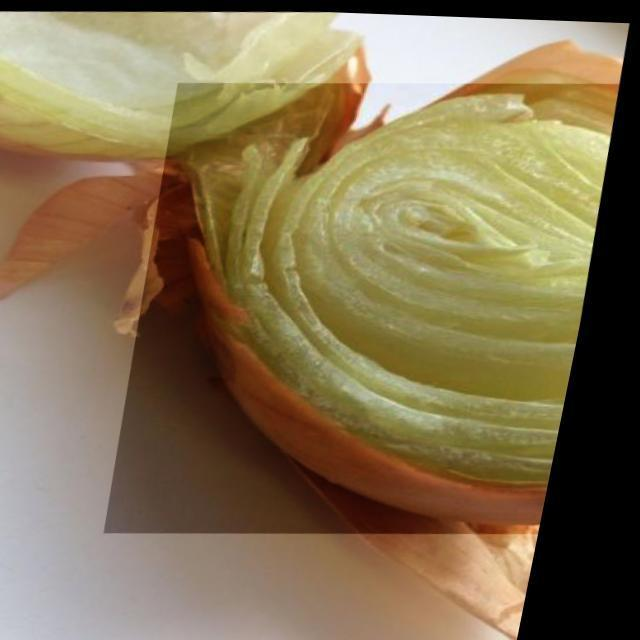Onion: (109, 66, 630, 544)
